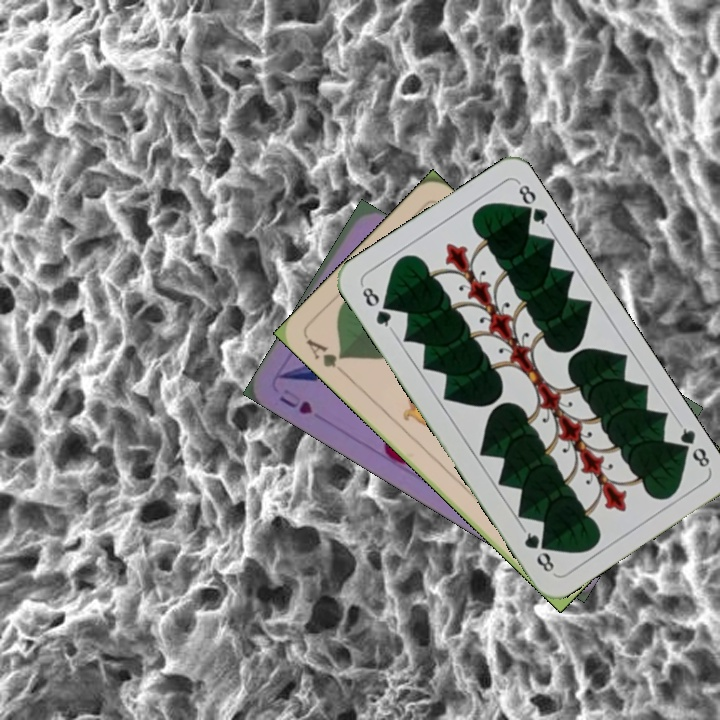G8: (671, 419, 713, 473), (357, 281, 396, 333)
GA: (302, 335, 350, 379)
HU: (275, 384, 315, 417)
